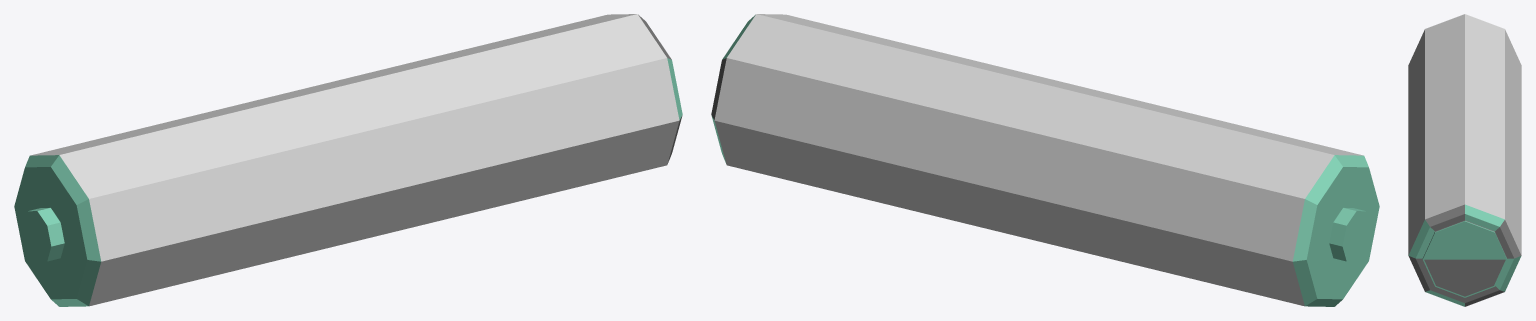
The model's file is TurnCounterBattery.fbx.
3 views of the same model, side by side, from view 1: azimuth 30°, elevation 25°; view 2: azimuth 150°, elevation 25°; view 3: azimuth 270°, elevation 25° (orthographic). The views are drawn at different scales.
Visible parts, largest first — view 1: Cylinder020; view 2: Cylinder020; view 3: Cylinder020.
Part boxes in pixels (bbox=[...]): Cylinder020: bbox=[14, 14, 682, 306]; Cylinder020: bbox=[711, 14, 1379, 306]; Cylinder020: bbox=[1408, 14, 1521, 306].
Size of the model in its own units: 1829 by 434 by 434.
